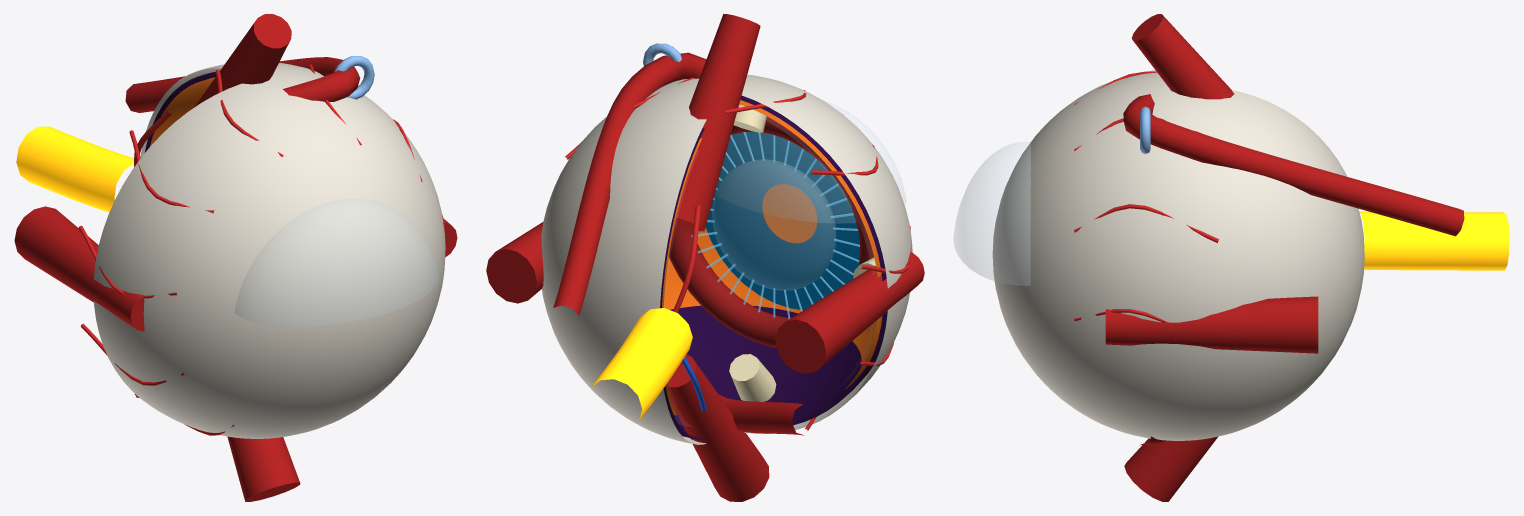
The model's file is eye.glb.
3 renders of one model, left to right at view 1: azimuth 30°, elevation 25°; view 2: azimuth 150°, elevation 25°; view 3: azimuth 270°, elevation 25°, orthographic.
Visible parts, largest first — view 1: sclera, cornea, optic_nerve, rectus_lateralis, rectus_superior, rectus_inferior, oblique_superior, retina, trochlea, choroid; view 2: sclera, iris, lens, choroid, cornea, rectus_superior, oblique_superior, rectus_lateralis, retina, rectus_inferior, ciliary_body, optic_nerve (+6 smaller); view 3: sclera, oblique_superior, cornea, rectus_medialis, optic_nerve, rectus_superior, rectus_inferior.
Boxes of the visible parts, x1,y1,x2,y2 form: sclera: (94, 63, 445, 438); cornea: (235, 199, 438, 326); optic_nerve: (16, 126, 133, 212); rectus_lateralis: (14, 206, 144, 331); rectus_superior: (194, 14, 291, 107); rectus_inferior: (227, 436, 300, 501); oblique_superior: (125, 57, 360, 112); retina: (150, 77, 215, 146); trochlea: (334, 56, 374, 99); choroid: (145, 71, 216, 152); sclera: (541, 74, 912, 444); iris: (705, 132, 859, 310); lens: (712, 160, 835, 290); choroid: (660, 95, 887, 439); cornea: (715, 101, 905, 223); rectus_superior: (674, 14, 760, 231); oblique_superior: (553, 52, 706, 316); rectus_lateralis: (775, 252, 924, 373); retina: (662, 100, 882, 415); rectus_inferior: (667, 354, 769, 501); ciliary_body: (669, 116, 873, 347); optic_nerve: (591, 308, 692, 420); sclera: (992, 70, 1364, 440); oblique_superior: (1123, 94, 1464, 236); cornea: (953, 142, 1030, 285); rectus_medialis: (1105, 296, 1318, 353); optic_nerve: (1359, 211, 1509, 270); rectus_superior: (1131, 14, 1234, 99); rectus_inferior: (1124, 436, 1218, 501).
Bounding box in the file's own units: 2.94 × 4 × 4.19.
